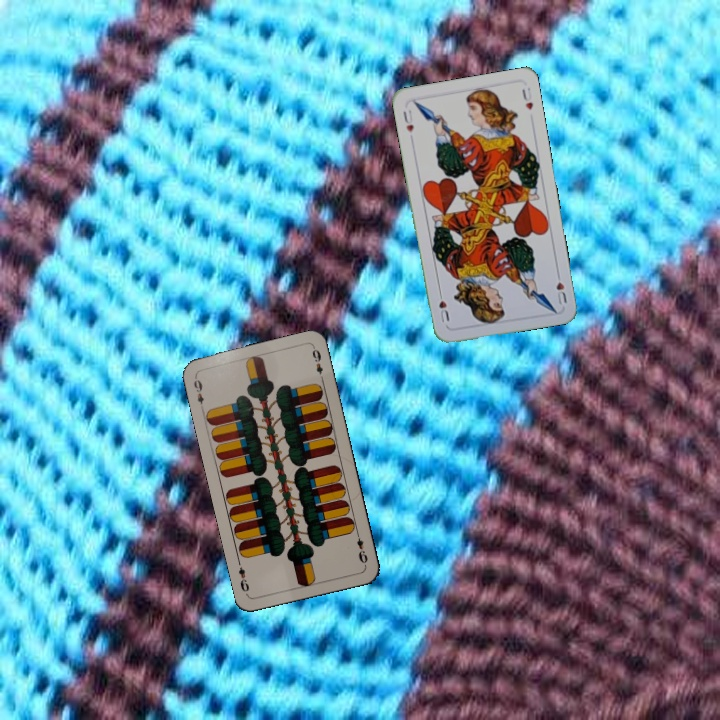E9: (189, 372, 207, 413), (353, 528, 370, 568)
HU: (552, 267, 569, 307), (399, 106, 416, 135)
